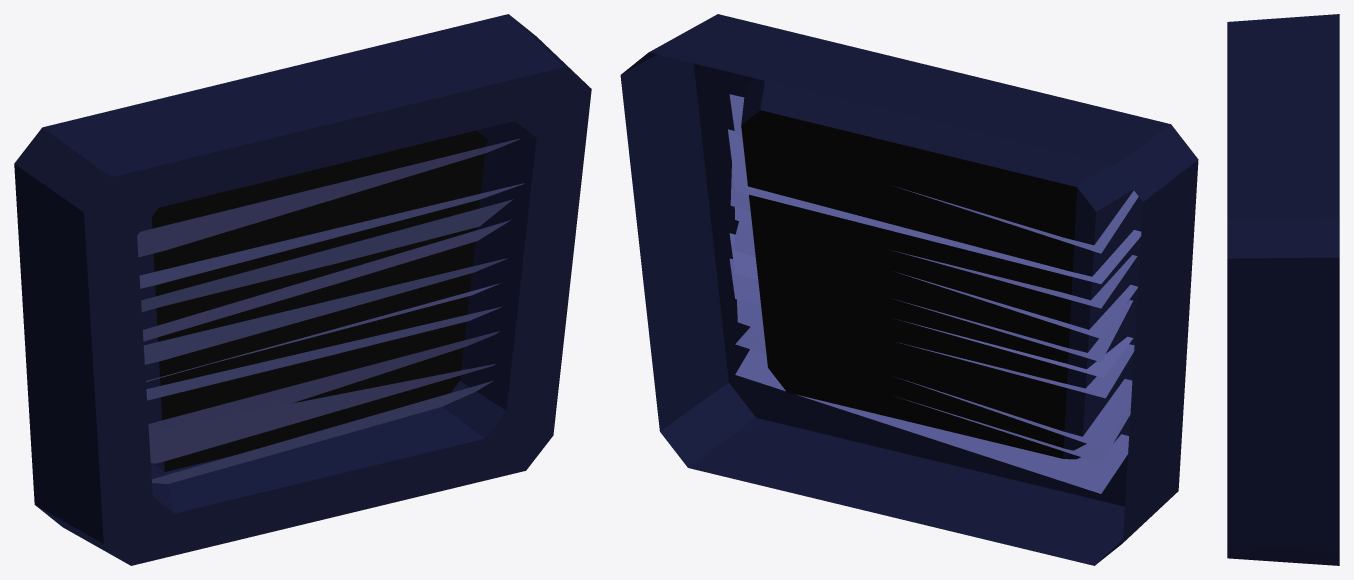
File: MDL_Respiradero.FBX
3 views of the same model, side by side, from view 1: azimuth 30°, elevation 25°; view 2: azimuth 150°, elevation 25°; view 3: azimuth 270°, elevation 25° (orthographic). The views are drawn at different scales.
Parts seen in each view (by area): view 1: Box011; view 2: Box011; view 3: Box011.
Part boxes in pixels (left/top/right/bottom): Box011: left=14, top=14, right=591, bottom=565; Box011: left=620, top=14, right=1198, bottom=565; Box011: left=1227, top=14, right=1339, bottom=565.
Size of the model in its own units: 41.21 by 30.61 by 8.54.
